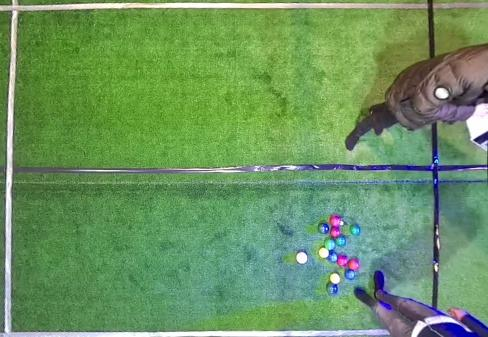blue: (327, 252, 338, 263), (345, 270, 355, 280)
green: (326, 283, 338, 294), (318, 223, 329, 235), (324, 239, 335, 250), (335, 236, 346, 246), (350, 225, 360, 235)
red: (296, 252, 307, 264), (337, 255, 348, 267), (348, 259, 359, 270), (329, 216, 340, 227), (330, 227, 340, 238)
vline: (430, 124, 487, 310), (0, 0, 20, 336), (427, 0, 487, 58)
white: (340, 221, 343, 225)
yellow: (318, 248, 329, 258), (330, 273, 340, 284)
